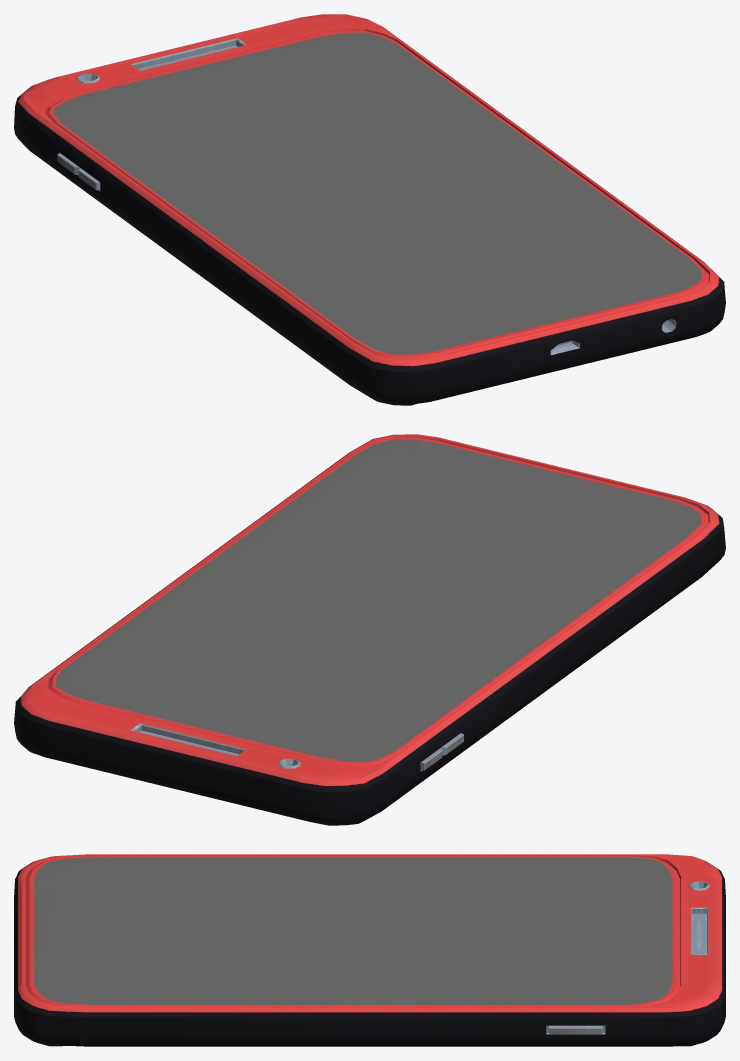
The model's file is mobile_phone.glb.
3 views of the same model, one above another, from view 1: azimuth 30°, elevation 25°; view 2: azimuth 150°, elevation 25°; view 3: azimuth 270°, elevation 25° (orthographic). The views are drawn at different scales.
Parts seen in each view (by area): view 1: PhoneLP; view 2: PhoneLP; view 3: PhoneLP.
Boxes of the visible parts, x1,y1,x2,y2 form: PhoneLP: (14, 14, 725, 405); PhoneLP: (14, 434, 725, 825); PhoneLP: (14, 854, 725, 1046).
Size of the model in its own units: 1.09 by 0.148 by 2.
1 material, 1 textured.
